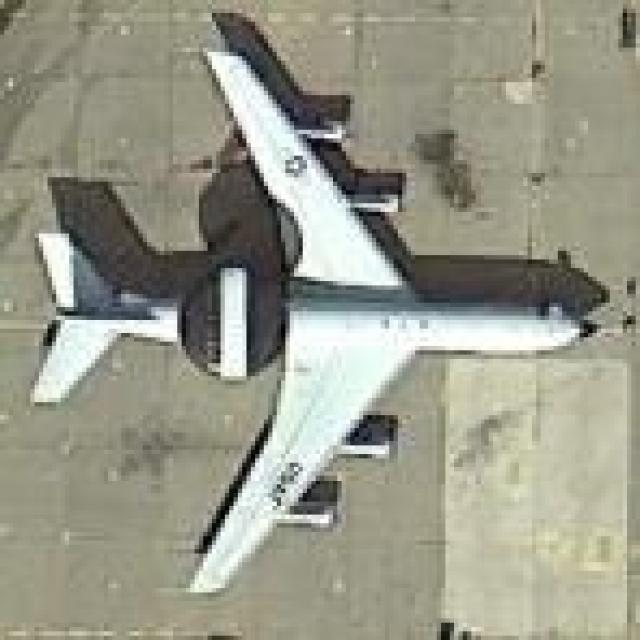E-3_TopDown: (26, 5, 610, 592)
